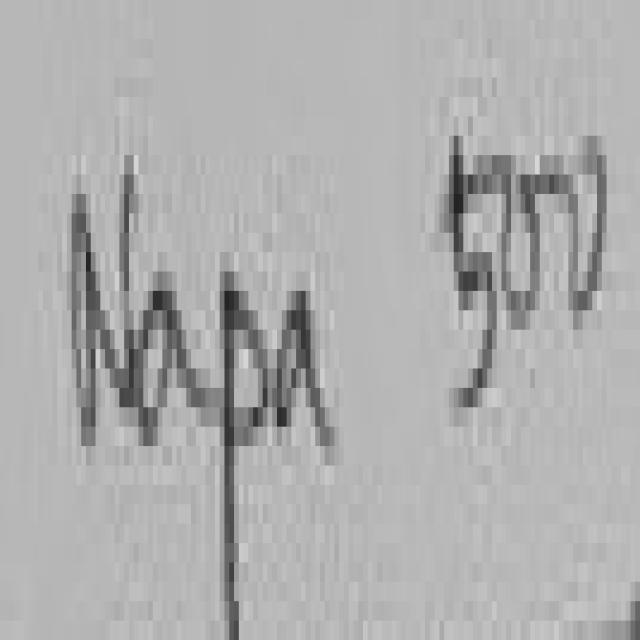0: (506, 175, 544, 330), (573, 155, 602, 301)
5: (454, 136, 501, 398)
N: (72, 155, 139, 436)
a: (139, 291, 215, 446), (277, 291, 334, 446)
p: (224, 272, 272, 640)
